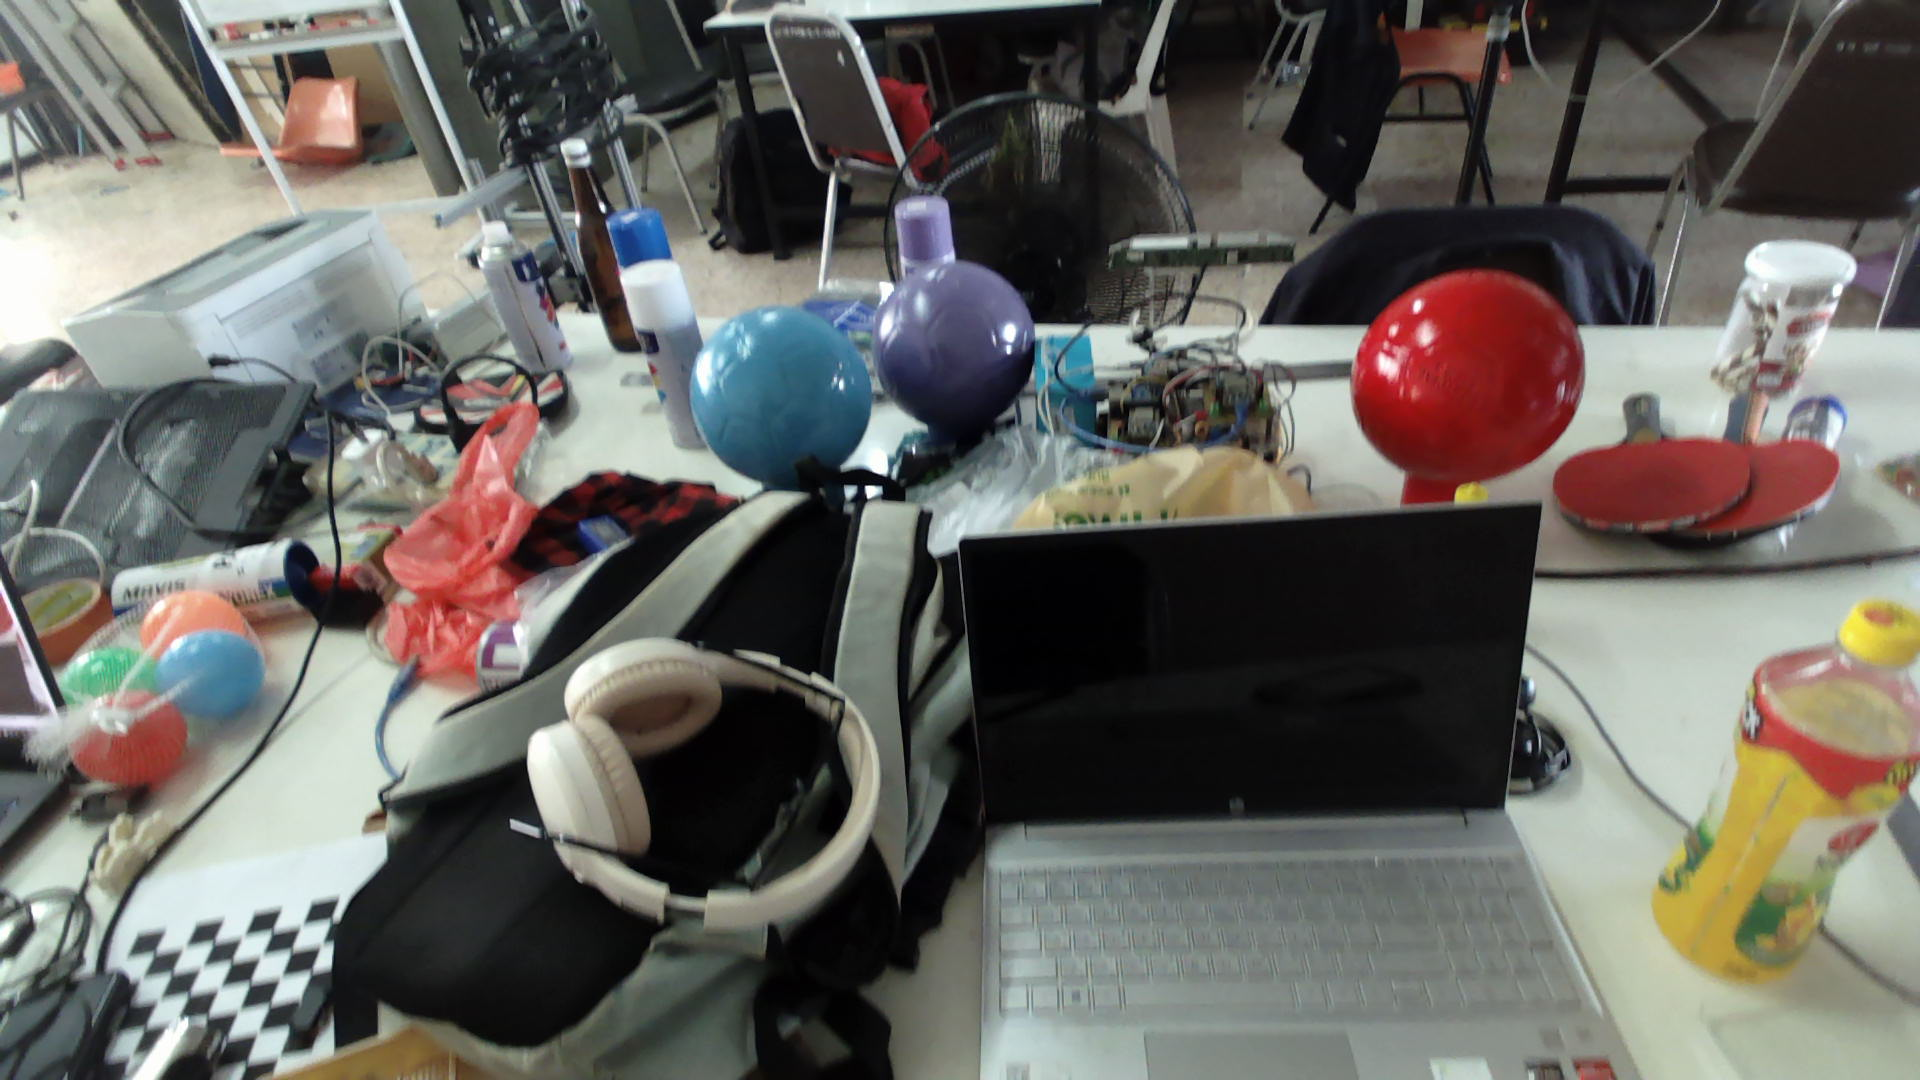Blue ball: (687, 302, 876, 487)
Purple ball: (870, 256, 1038, 433)
Red ball: (1348, 264, 1586, 487)
